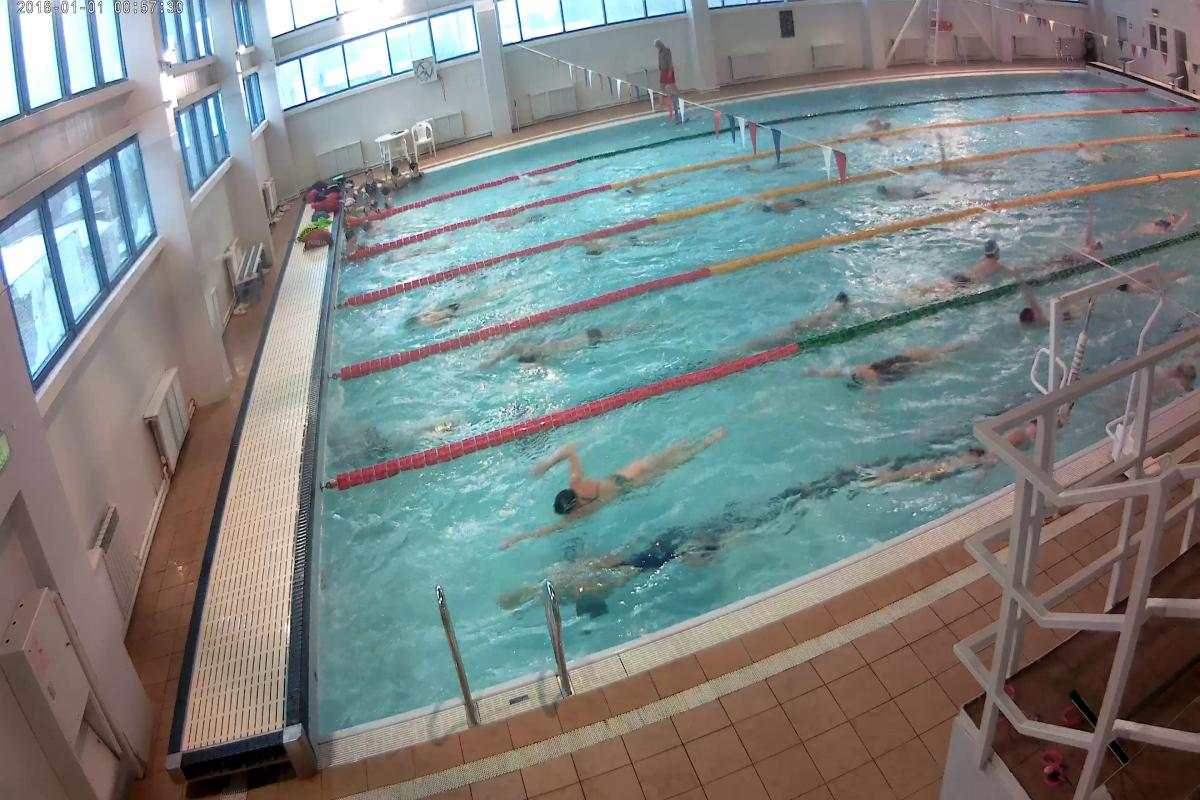swimmer: (497, 426, 728, 542), (841, 331, 960, 403), (491, 329, 641, 375), (756, 286, 860, 342), (933, 226, 1004, 298), (404, 292, 502, 338), (1130, 197, 1189, 239), (752, 191, 822, 216), (1010, 290, 1049, 330), (871, 179, 919, 202), (860, 112, 896, 134)
